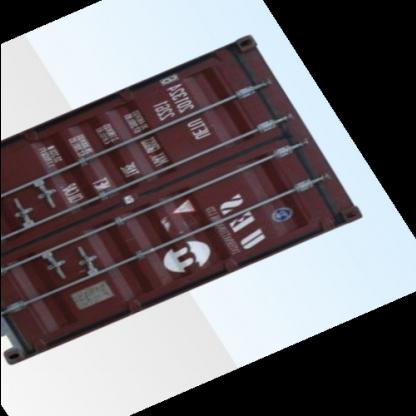Damage: (163, 210, 214, 242), (315, 188, 353, 224)
